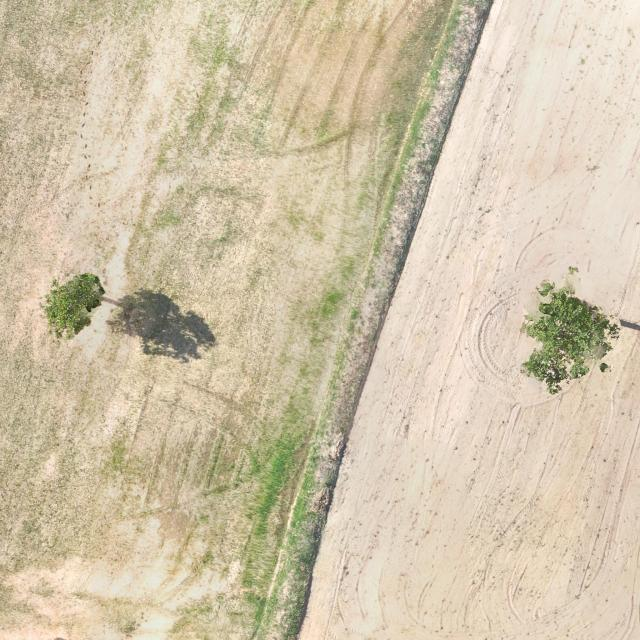Tree: (519, 264, 621, 398), (41, 272, 106, 342)
